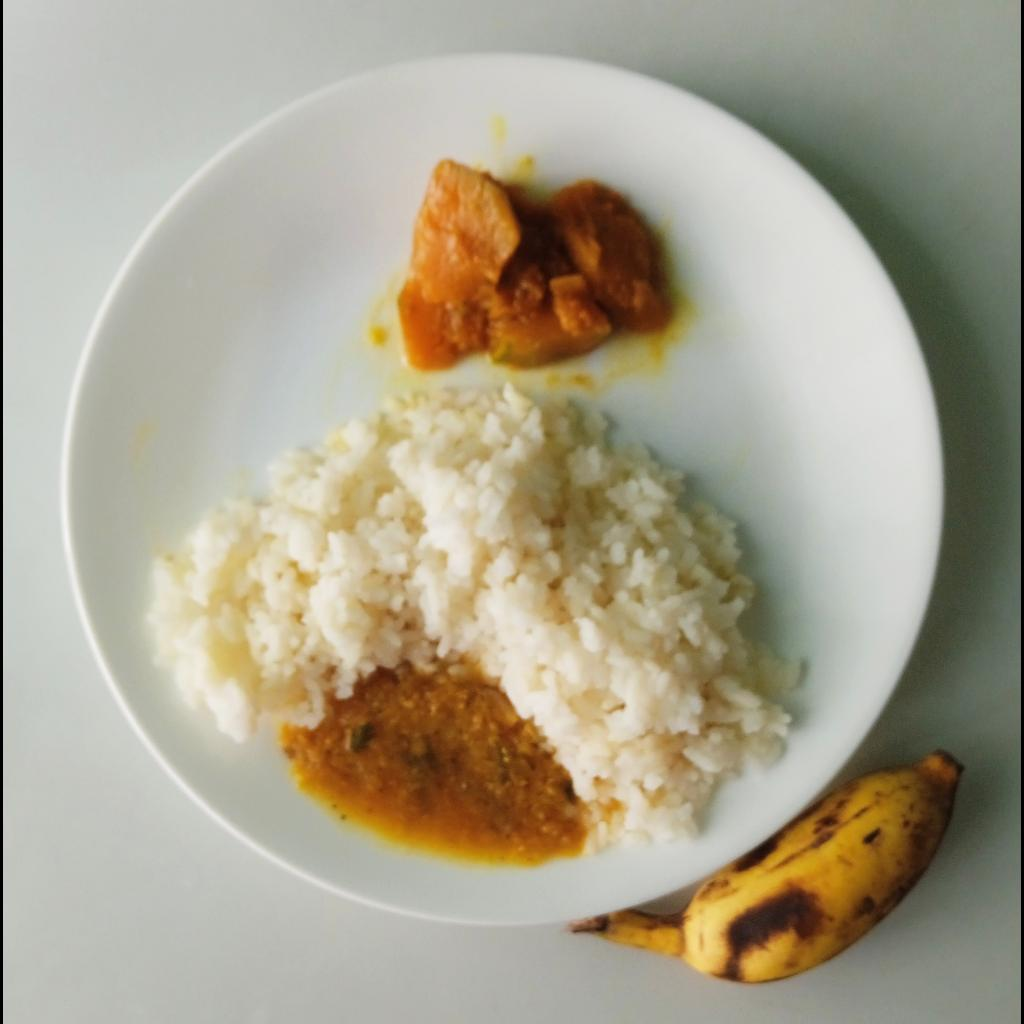banana: (569, 746, 972, 983)
daal: (278, 678, 576, 868)
kumra-vaji: (390, 156, 665, 373)
rice: (142, 378, 806, 855)
